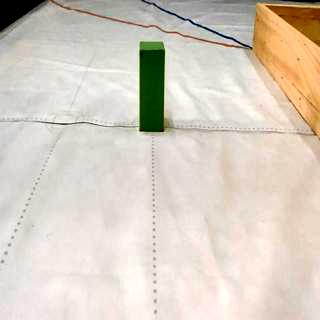greenbox: (138, 39, 165, 132)
